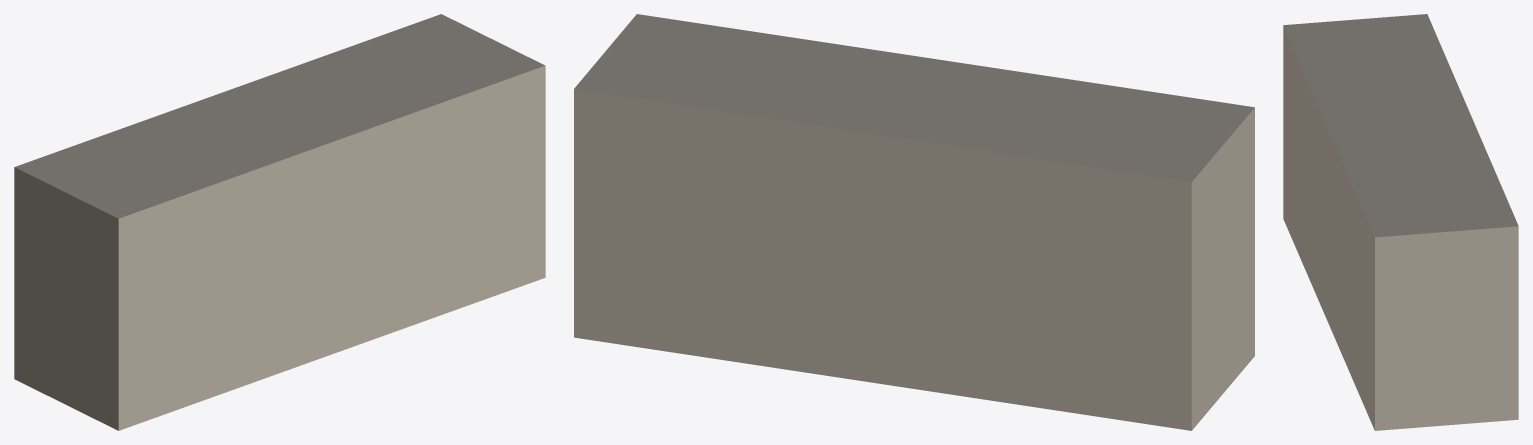
The picture shows the model from 3 angles, left to right: view 1: azimuth 30°, elevation 25°; view 2: azimuth 150°, elevation 25°; view 3: azimuth 270°, elevation 25°; orthographic projection. The views are drawn at different scales.
Parts seen in each view (by area): view 1: HP-w733797102; view 2: HP-w733797102; view 3: HP-w733797102.
Part boxes in pixels (box(x1,y1,x2,y2)): HP-w733797102: box(14, 14, 545, 430); HP-w733797102: box(574, 14, 1254, 430); HP-w733797102: box(1283, 14, 1518, 430).
Bounding box in the file's own units: 44.58 × 18 × 19.86.
